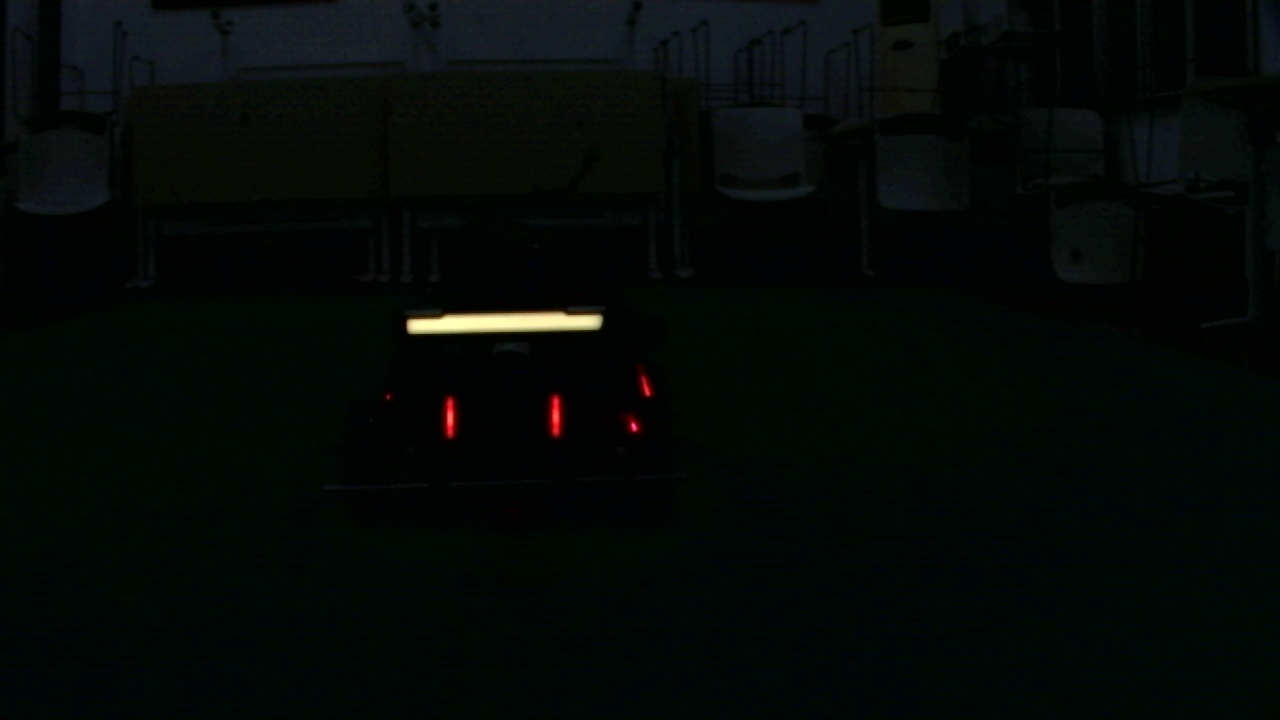lamp: (547, 393, 562, 442), (444, 397, 458, 439)
pair1: (445, 399, 561, 435)
